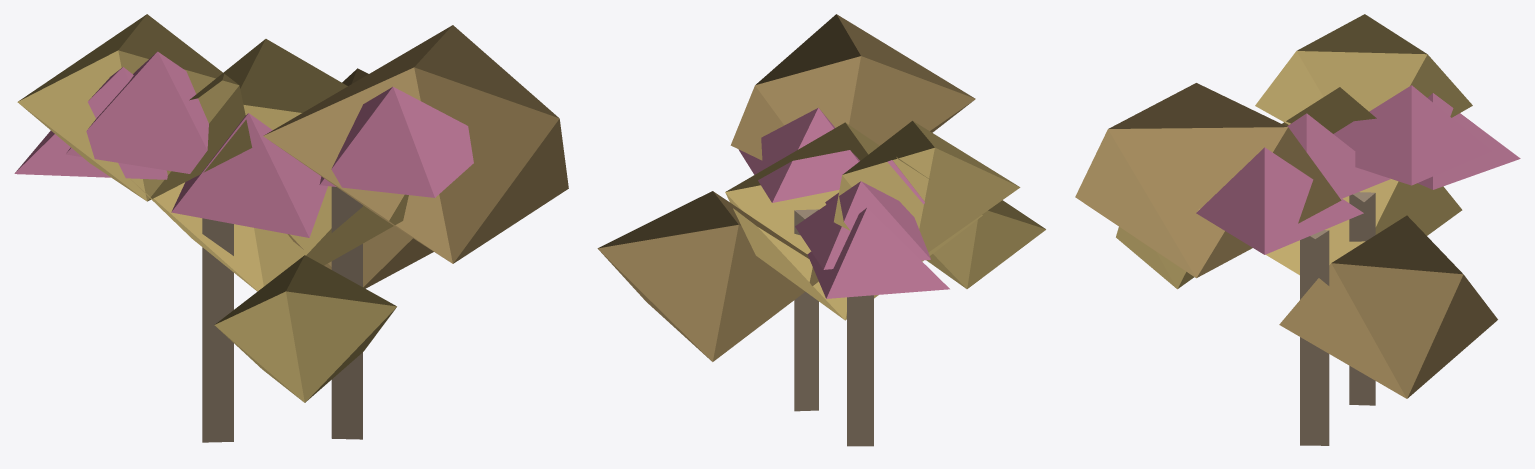
Rendered from shrub.sub.mountain_bush__autumn.glb.
3 renders of one model, left to right at view 1: azimuth 30°, elevation 25°; view 2: azimuth 150°, elevation 25°; view 3: azimuth 270°, elevation 25°, orthographic. The views are drawn at different scales.
Parts seen in each view (by area): view 1: shrub.sub.mountain_bush__autumn; view 2: shrub.sub.mountain_bush__autumn; view 3: shrub.sub.mountain_bush__autumn.
Boxes of the visible parts, x1,y1,x2,y2 form: shrub.sub.mountain_bush__autumn: [14, 14, 568, 442]; shrub.sub.mountain_bush__autumn: [597, 14, 1045, 446]; shrub.sub.mountain_bush__autumn: [1075, 14, 1520, 445].
Size of the model in its own units: 2.14 by 1.95 by 2.08.
